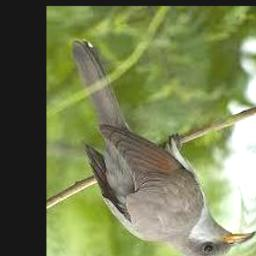Cuckoo: (72, 38, 254, 256)
